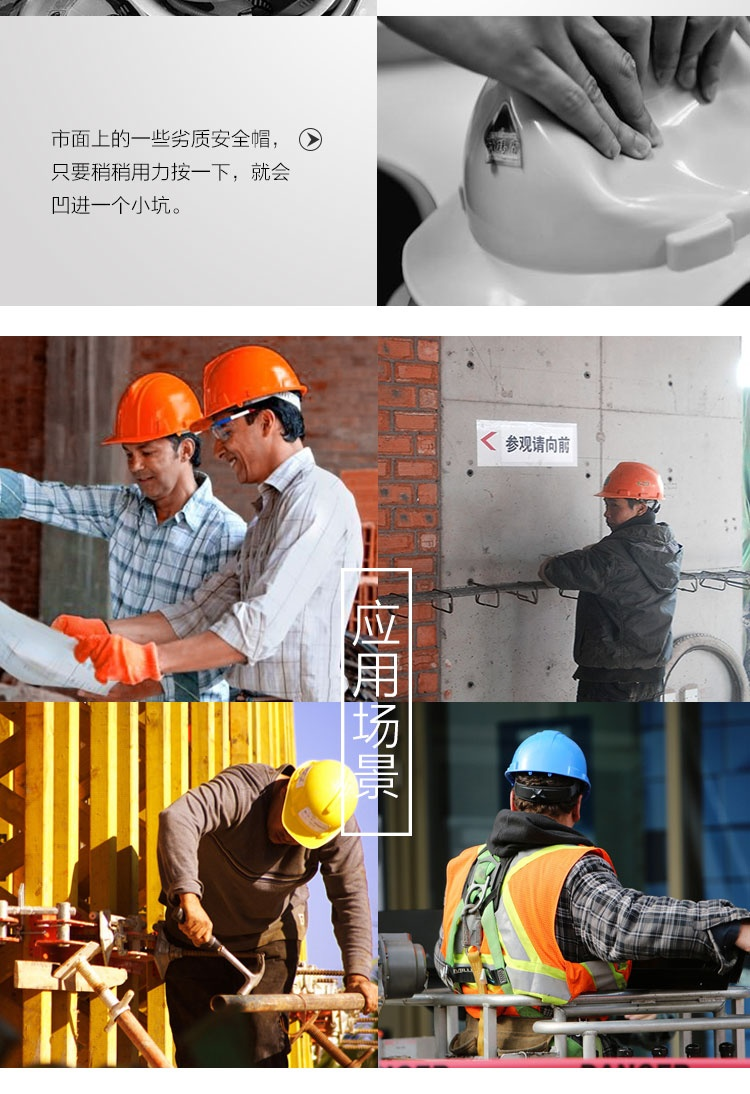blue: (497, 728, 599, 832)
yellow: (197, 342, 315, 481), (98, 369, 207, 497), (262, 746, 363, 854), (588, 457, 671, 536)
